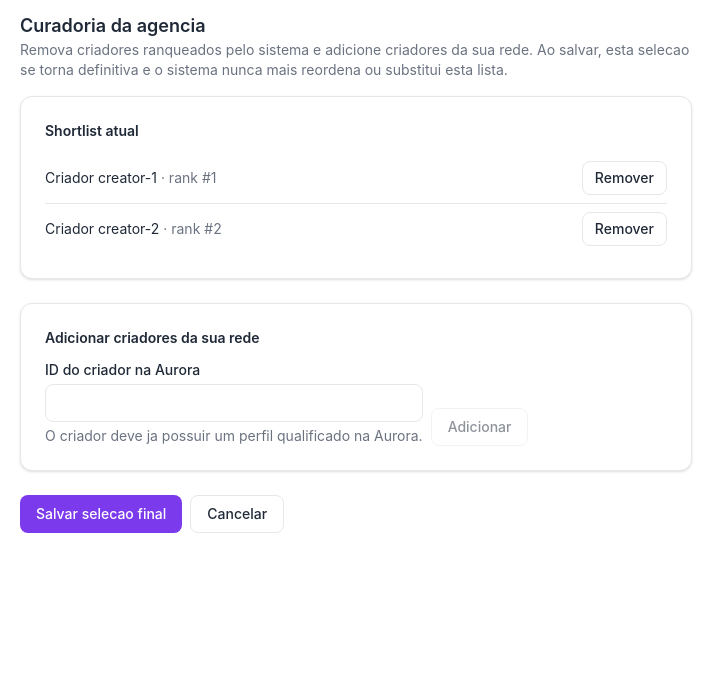
Test case: ShortlistOverridePage - US-40 › shows an explicit eligibility error when the backend rejects an ineligible creator addition
Expected: the text "Criador creator-1 · rank #1" is shown, [45,168,216,188]
Step 1. Type "creator-9999" into the field labelled "ID do criador na Aurora" → {"x": 234, "y": 403}, box [45,384,423,422]
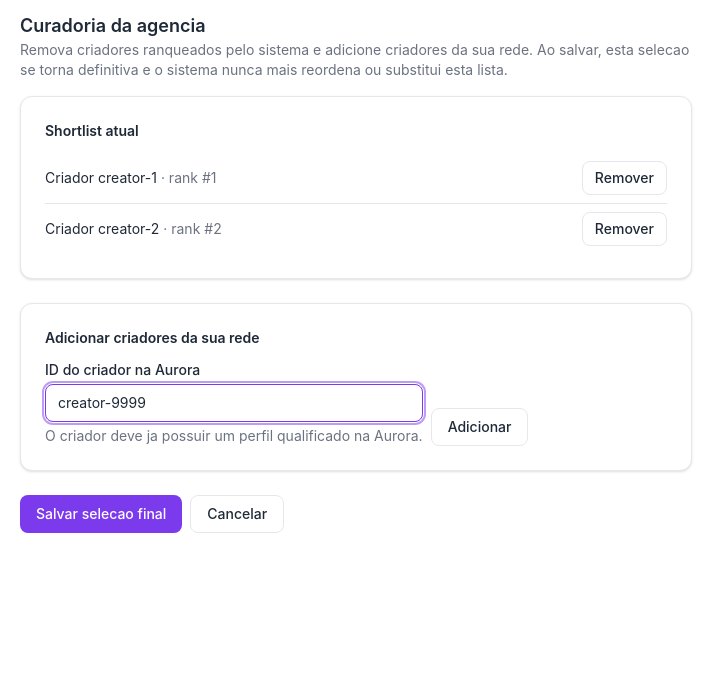
Step 2. Click the button "Adicionar" → {"x": 480, "y": 427}, box [431,408,528,446]
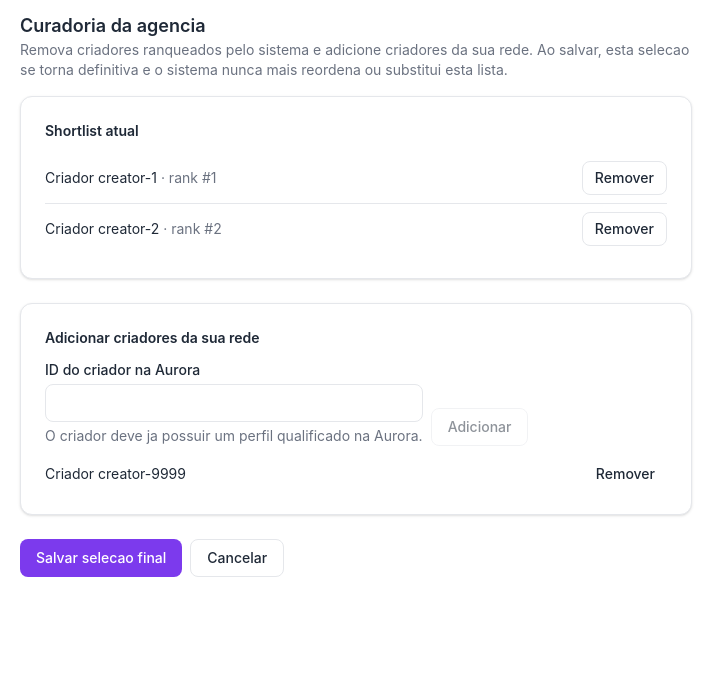
Step 3. Click the button "Salvar selecao final" → {"x": 101, "y": 558}, box [20,539,182,577]
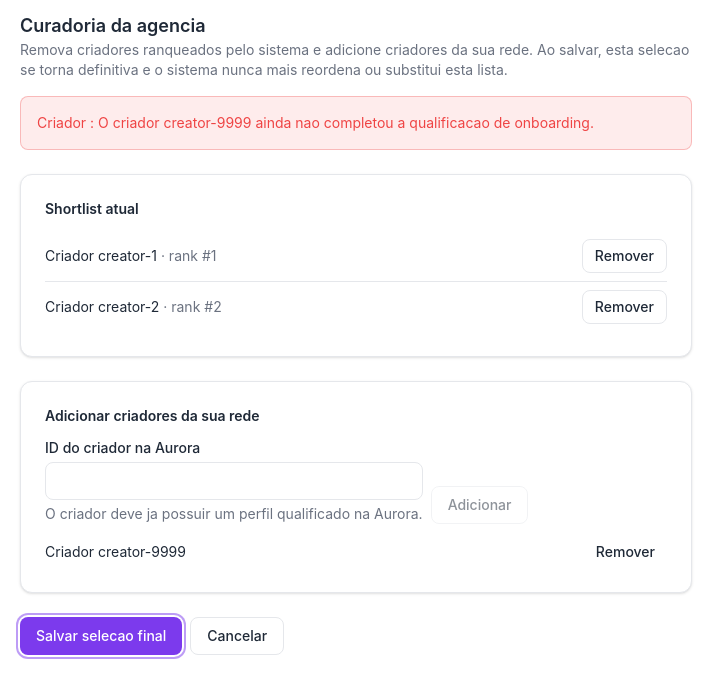
Expected: the text "nao completou a qualificacao de onboarding" is shown, [98,114,594,131]
